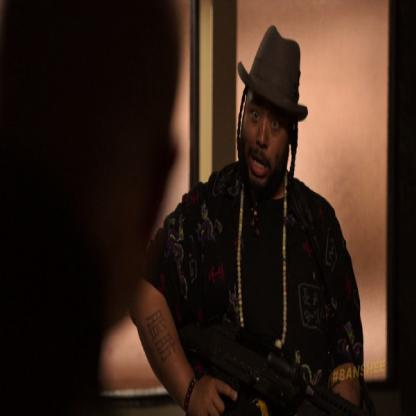Guns: (170, 308, 362, 414)
